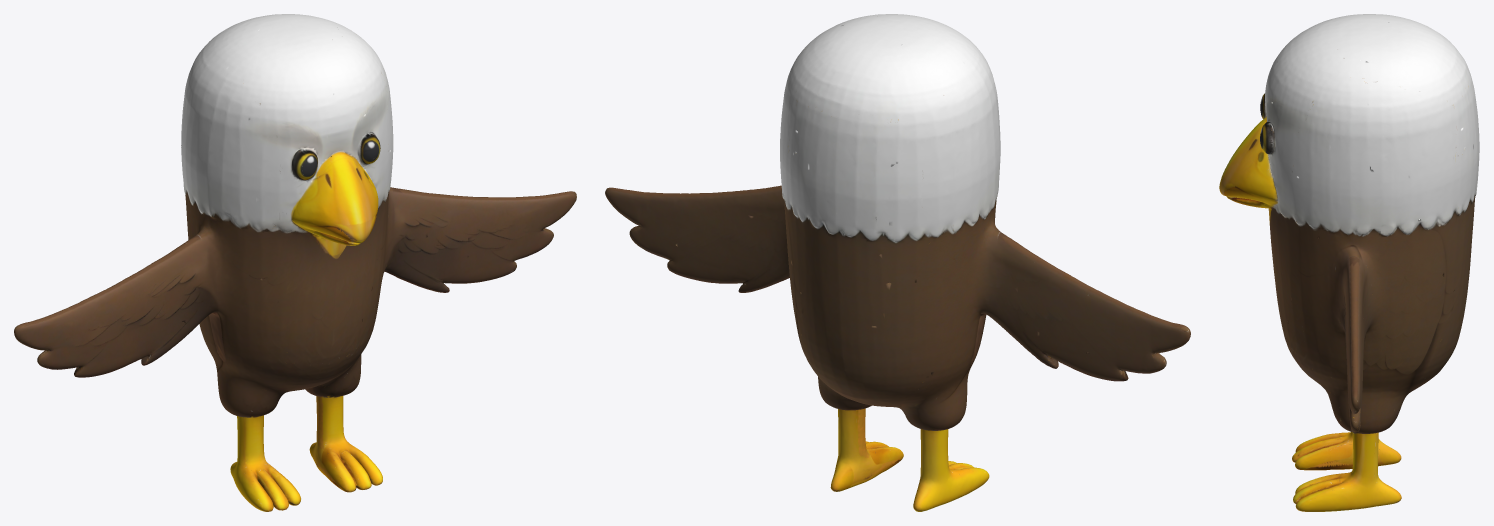
File: EAGLE.fbx
3 views of the same model, side by side, from view 1: azimuth 30°, elevation 25°; view 2: azimuth 150°, elevation 25°; view 3: azimuth 270°, elevation 25° (orthographic). The views are drawn at different scales.
Visible parts, largest first — view 1: Mesh_0.137; view 2: Mesh_0.137; view 3: Mesh_0.137.
Boxes of the visible parts, <box> form: Mesh_0.137: <box>14,14,576,511</box>; Mesh_0.137: <box>605,14,1190,511</box>; Mesh_0.137: <box>1219,14,1479,511</box>.
Bounding box in the file's own units: 200 × 151 × 78.64.
1 material, 1 textured.
